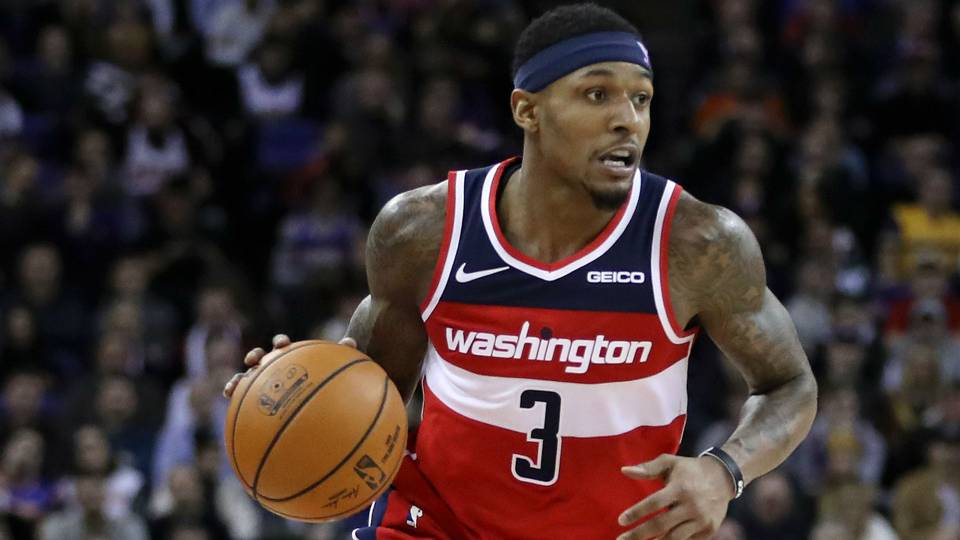Geico: (585, 268, 648, 285)
